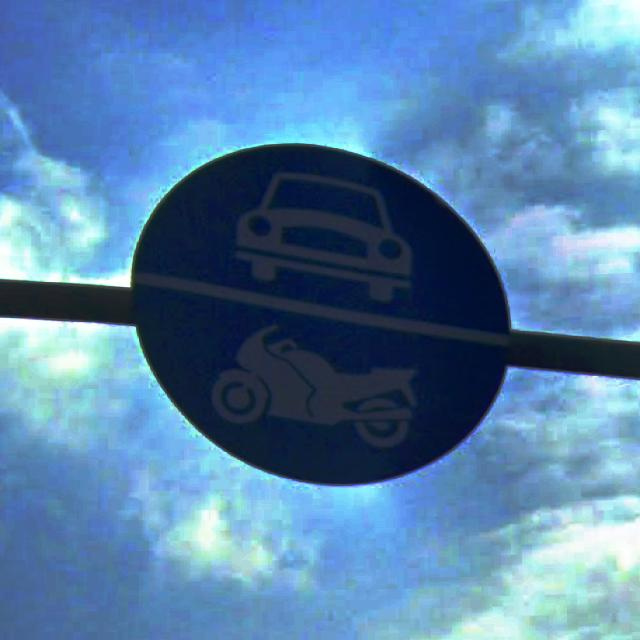carmotorcycle: (128, 140, 512, 486)
